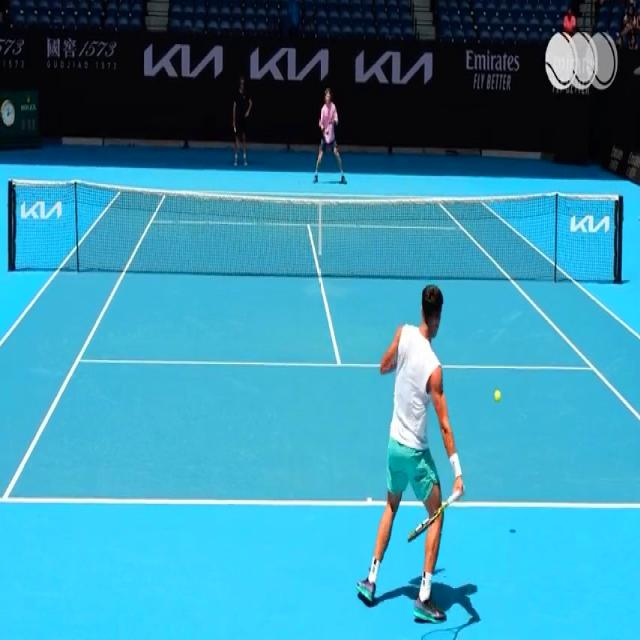forehand-stroke: (357, 287, 463, 622)
